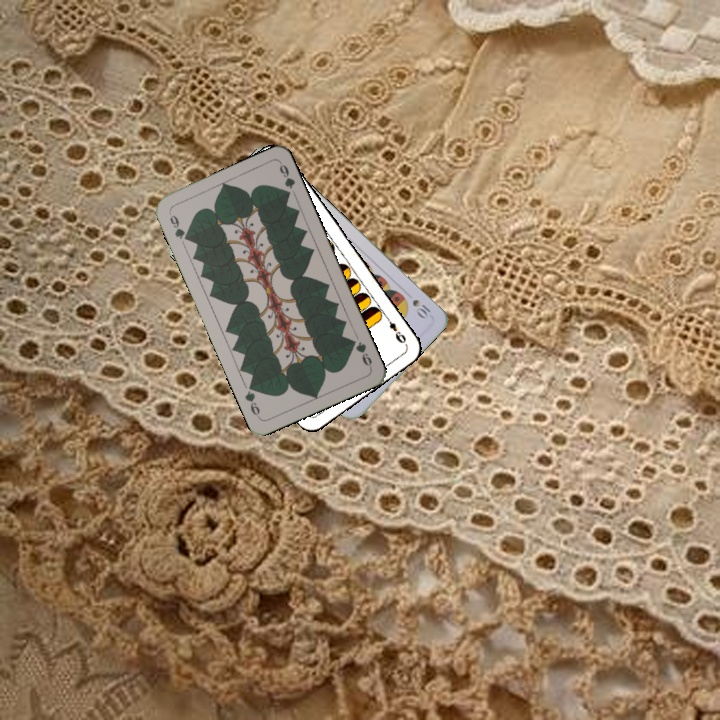E9: (381, 311, 409, 346)
G9: (346, 335, 375, 371), (165, 209, 192, 244)
S10: (408, 295, 433, 320)
